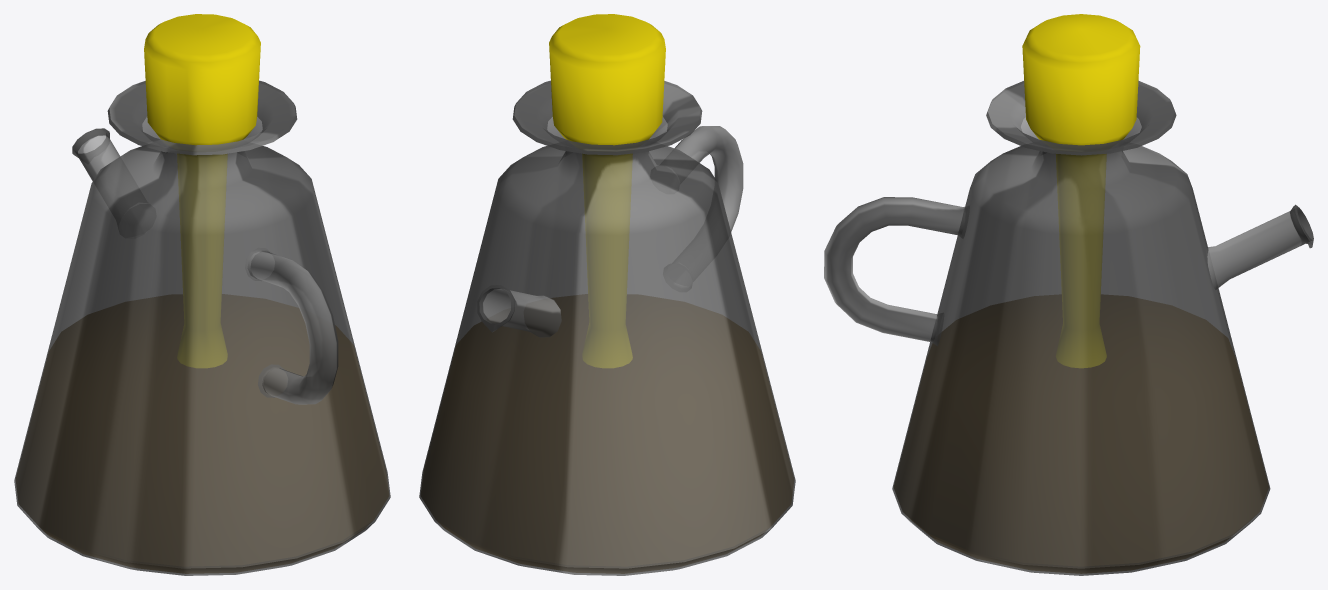
Rendered from soysauce_half.fbx.
The picture shows the model from 3 angles, left to right: view 1: azimuth 30°, elevation 25°; view 2: azimuth 150°, elevation 25°; view 3: azimuth 270°, elevation 25°; orthographic projection.
Visible parts, largest first — view 1: soy_half; view 2: soy_half; view 3: soy_half.
Boxes of the visible parts, box(x1,y1,x2,y2) form: soy_half: box(14, 14, 390, 575); soy_half: box(419, 14, 795, 575); soy_half: box(824, 14, 1313, 575).
Size of the model in its own units: 9.93 by 13.88 by 12.86.
Materials: 3 (1 with a texture image).
